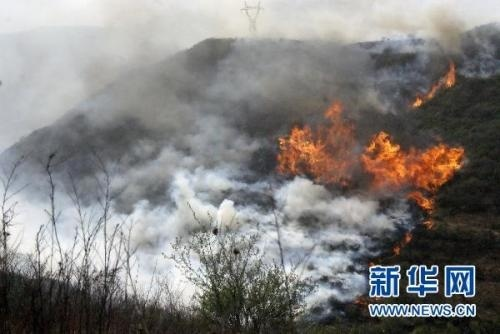fire: (276, 101, 461, 206), (409, 60, 459, 109)
